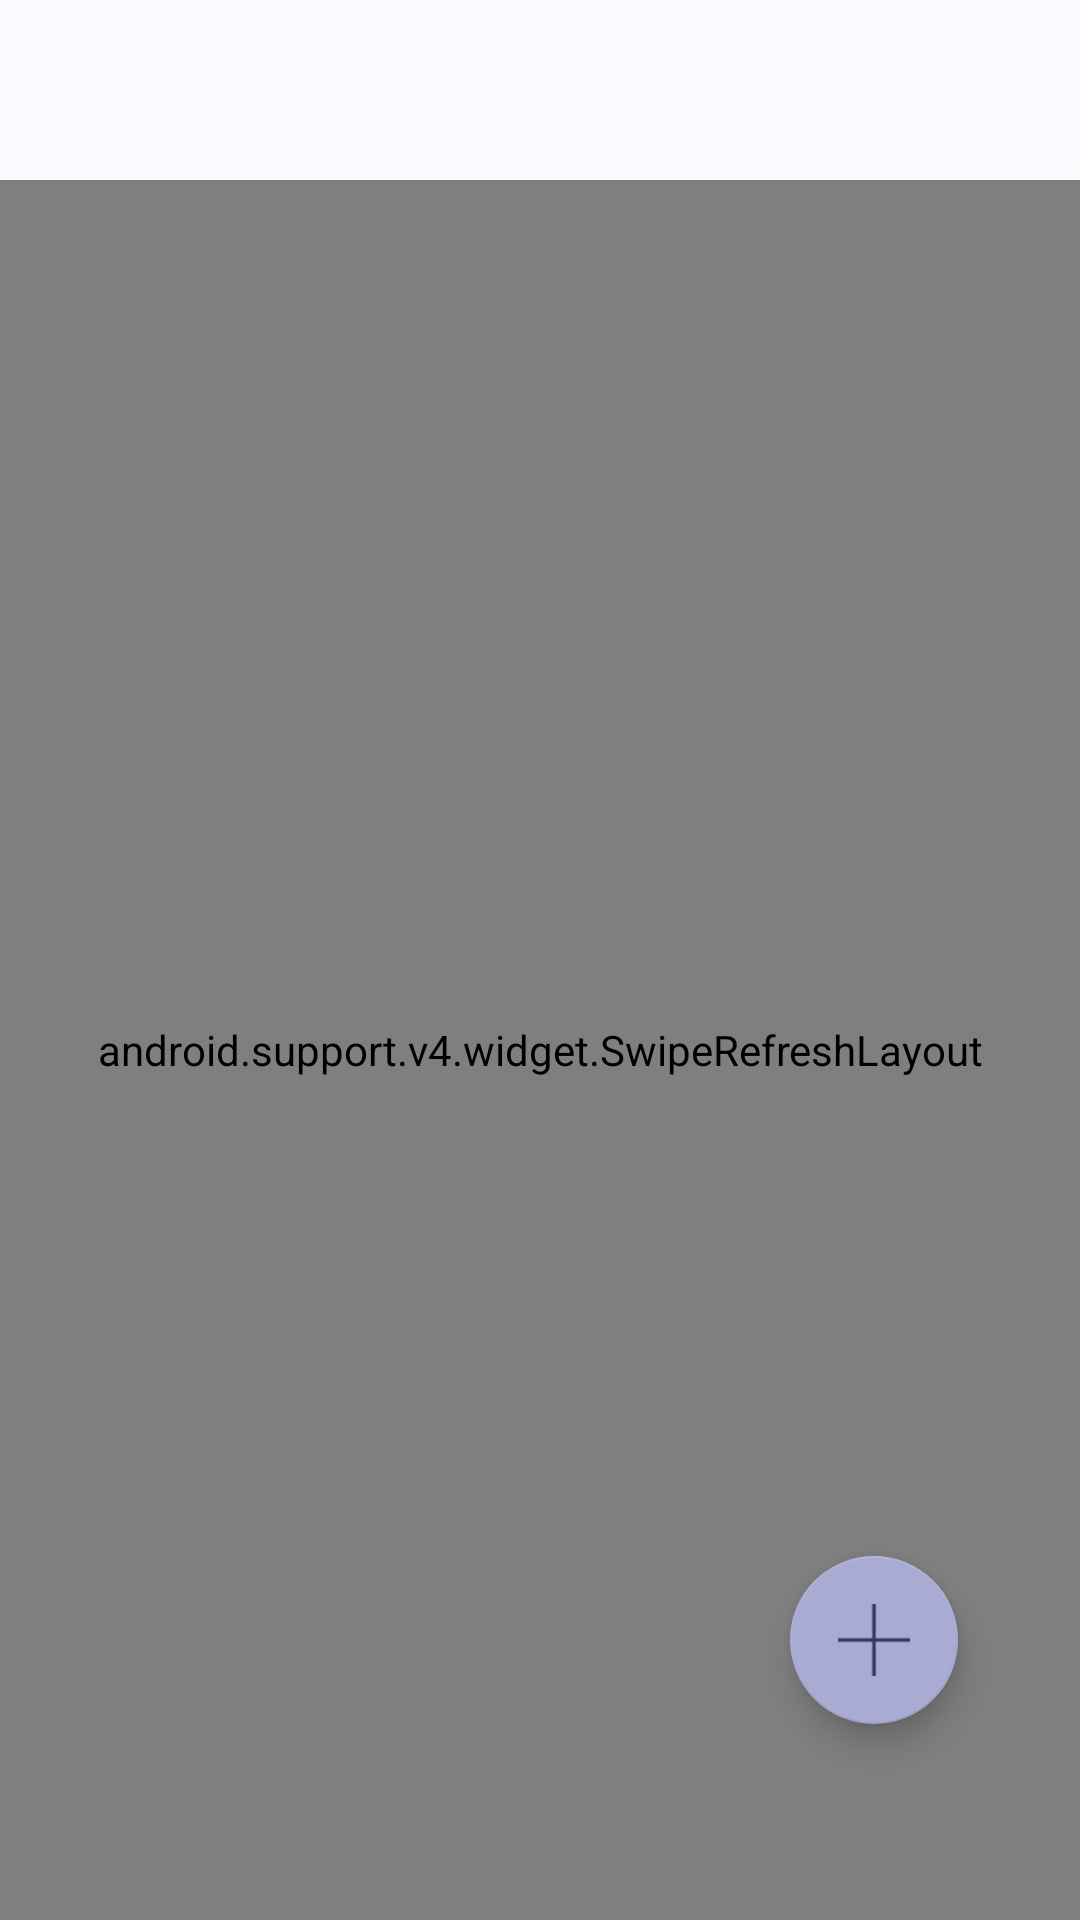

Where icons sit on this 1080 × 1920 app screen, as rect(x1, y1, x2, y2):
add: rect(790, 1556, 958, 1724)
